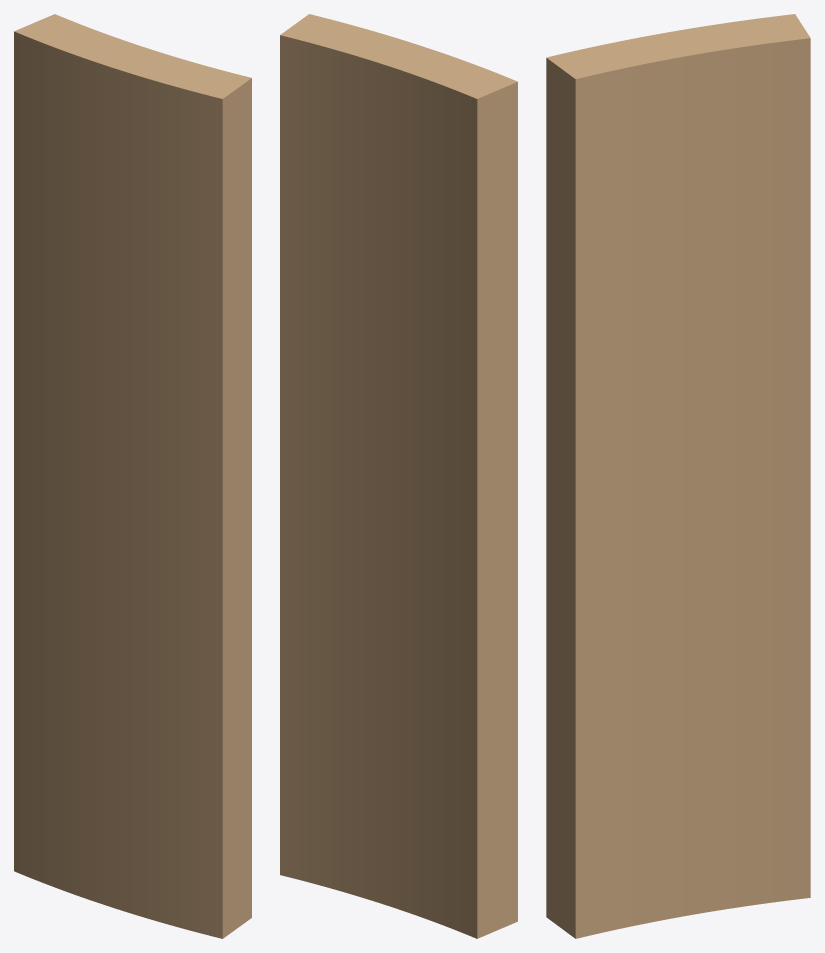
File: starter-commutator-segment-14.glb
The picture shows the model from 3 angles, left to right: view 1: azimuth 30°, elevation 25°; view 2: azimuth 210°, elevation 25°; view 3: azimuth 270°, elevation 25°; orthographic projection. The views are drawn at different scales.
Visible parts, largest first — view 1: world; view 2: world; view 3: world.
Boxes of the visible parts, left/top/right/bottom form: world: left=14, top=14, right=251, bottom=938; world: left=280, top=14, right=517, bottom=938; world: left=546, top=14, right=810, bottom=938.
Size of the model in its own units: 0.00261 by 0.016 by 0.00446.
